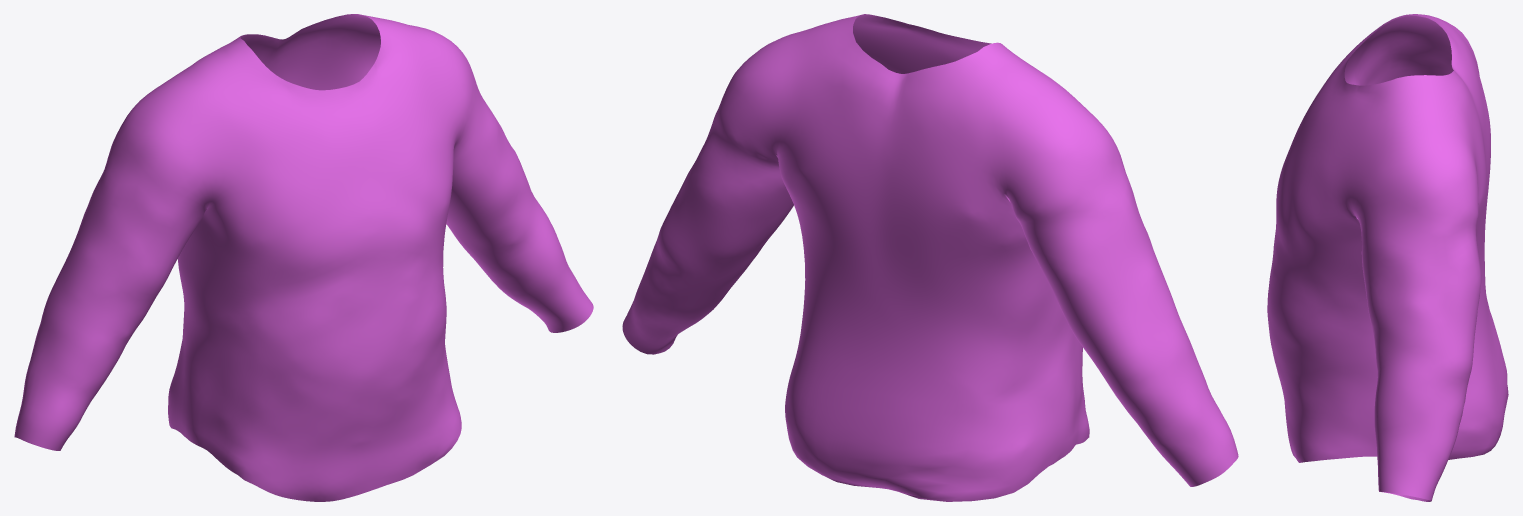
Rendered from Male-XX-Large-Shirt.glb.
3 renders of one model, left to right at view 1: azimuth 30°, elevation 25°; view 2: azimuth 150°, elevation 25°; view 3: azimuth 270°, elevation 25°, orthographic. The views are drawn at different scales.
Visible parts, largest first — view 1: Group1.008; view 2: Group1.008; view 3: Group1.008.
Part boxes in pixels (<box>): Group1.008: <box>14,14,593,501</box>; Group1.008: <box>622,14,1238,501</box>; Group1.008: <box>1267,14,1508,501</box>.
Bounding box in the file's own units: 1.87 × 1.31 × 0.7214.
